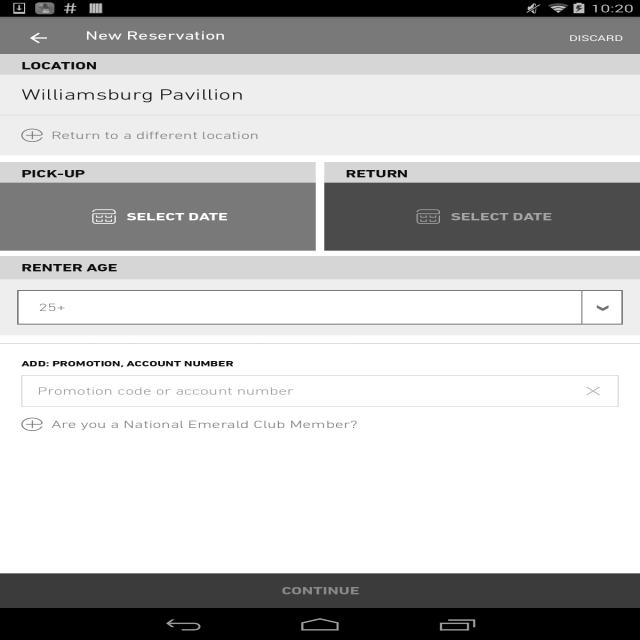EditText: (21, 375, 619, 407)
ImageButton: (9, 19, 68, 57), (568, 375, 618, 407)
ImageView: (92, 209, 116, 224), (417, 209, 440, 224), (597, 301, 608, 314)
TextView: (0, 74, 640, 114), (0, 116, 640, 156), (0, 573, 640, 608), (17, 290, 581, 325), (0, 411, 640, 438), (0, 256, 640, 279), (0, 54, 640, 75), (0, 162, 316, 183), (324, 162, 640, 183), (0, 359, 640, 368), (560, 22, 632, 54), (85, 28, 226, 42), (126, 210, 228, 223), (451, 210, 552, 223)
